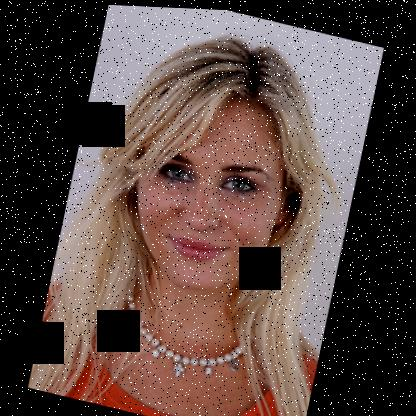Female: (120, 73, 311, 301)
